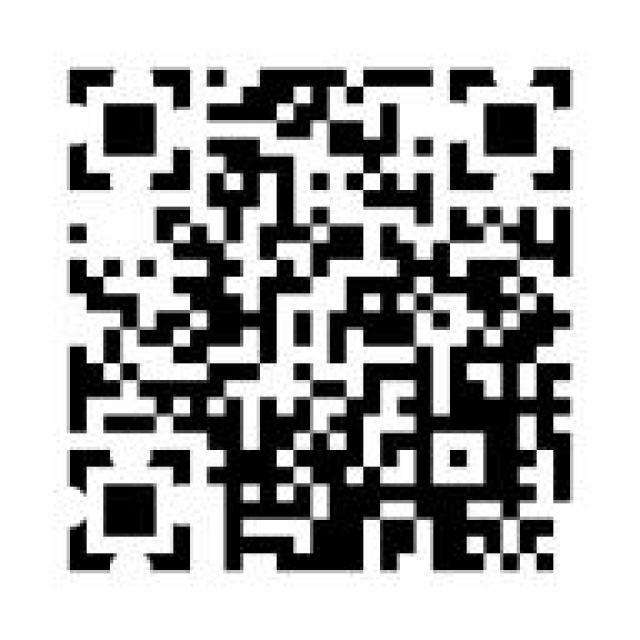qr_code: (69, 69, 572, 572)
